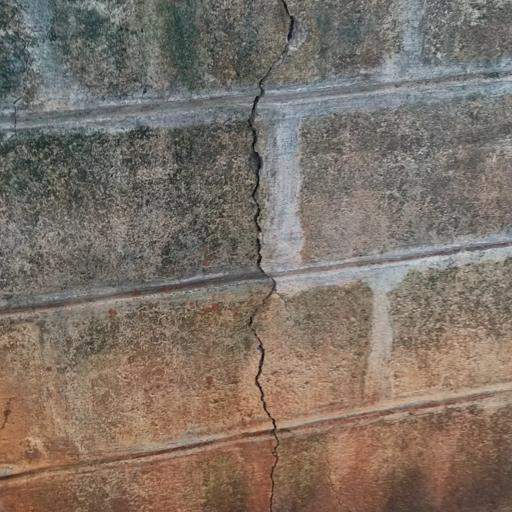major_crack: (236, 0, 302, 512)
